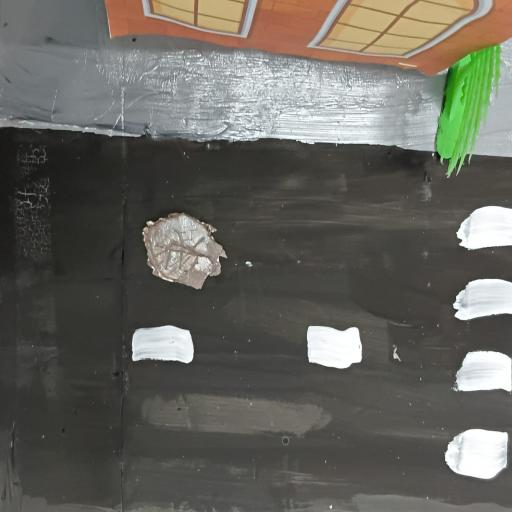porthole: (138, 200, 242, 308)
